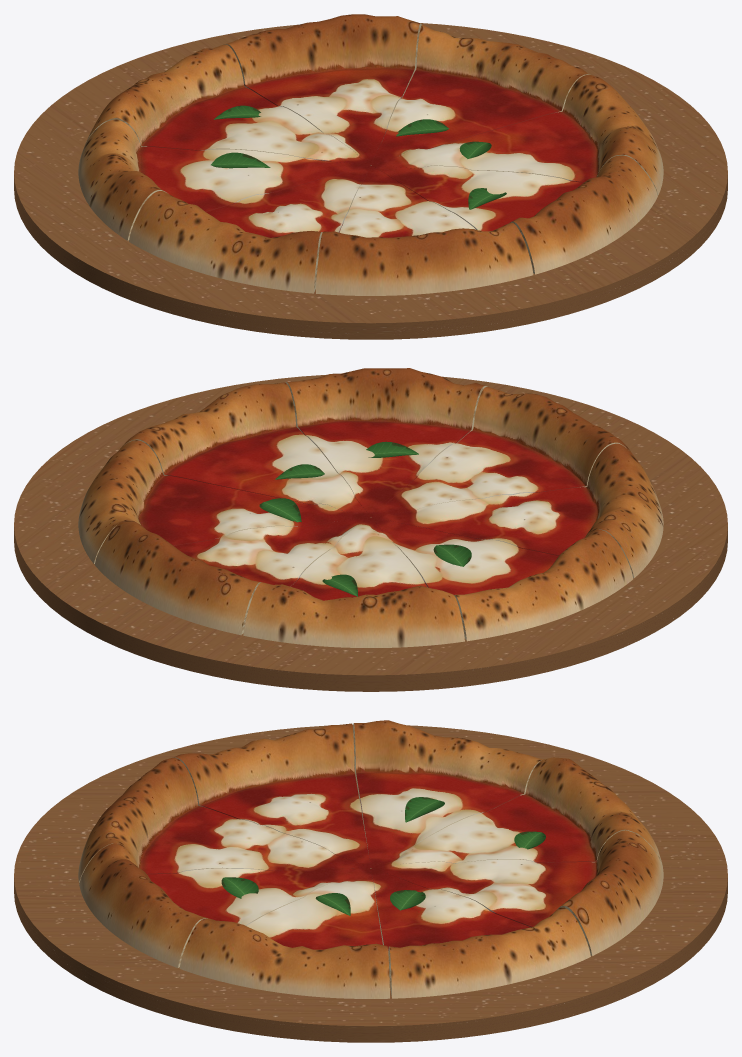
File: margherita.glb
3 renders of one model, top to bottom at view 1: azimuth 30°, elevation 25°; view 2: azimuth 150°, elevation 25°; view 3: azimuth 270°, elevation 25°, orthographic.
Parts seen in each view (by area): view 1: tagliere, fetta7, fetta3, fetta4, fetta2, fetta8, fetta6, fetta5, fetta1, basilico (×2); view 2: tagliere, fetta6, fetta2, fetta7, fetta5, fetta3, fetta1, fetta4, fetta8, basilico (×3); view 3: tagliere, fetta1, fetta8, fetta4, fetta5, fetta7, fetta3, fetta2, fetta6, basilico (×3).
Boxes of the visible parts, box(x1,y1,x2,y2) form: tagliere: box(14, 23, 727, 339); fetta7: box(223, 14, 421, 165); fetta3: box(316, 165, 533, 295); fetta4: box(129, 165, 370, 293); fetta2: box(372, 155, 657, 274); fetta8: box(371, 24, 590, 165); fetta6: box(86, 44, 370, 165); fetta5: box(78, 119, 369, 240); fetta1: box(372, 75, 663, 195); basilico (×2): box(211, 119, 448, 168); tagliere: box(14, 374, 727, 691); fetta6: box(243, 517, 464, 647); fetta2: box(285, 368, 487, 516); fetta7: box(94, 517, 370, 635); fetta5: box(371, 517, 633, 641); fetta3: box(371, 387, 632, 517); fetta1: box(120, 382, 370, 517); fetta4: box(372, 443, 663, 577); fetta8: box(78, 440, 369, 563); basilico (×3): box(259, 441, 471, 566); tagliere: box(14, 724, 727, 1042); fetta1: box(179, 868, 389, 998); fetta8: box(371, 868, 590, 998); fetta4: box(173, 723, 370, 868); fetta5: box(353, 720, 543, 867); fetta7: box(372, 830, 663, 955); fetta3: box(78, 757, 369, 882); fetta2: box(79, 843, 369, 967); fetta6: box(372, 757, 662, 868); basilico (×3): box(221, 797, 444, 910).
Size of the model in its own units: 0.3904 by 0.039 by 0.3904.
Materials: 5 (5 with a texture image).
